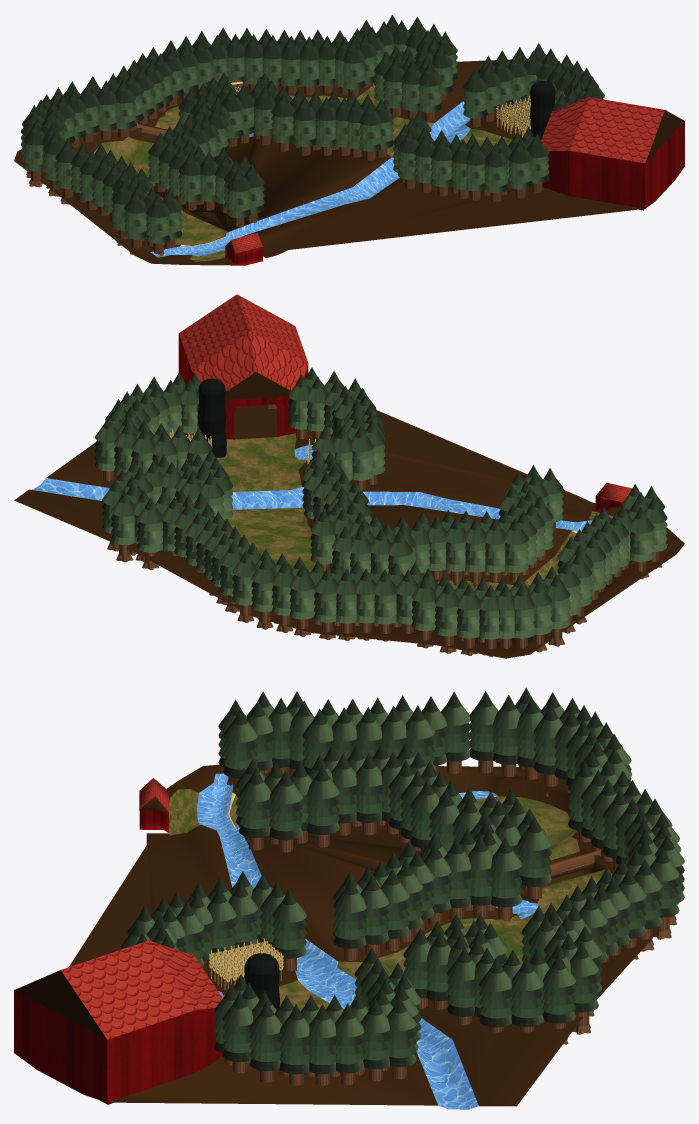
File: proyectardolvl1parte7(completo).fbx
3 renders of one model, top to bottom at view 1: azimuth 30°, elevation 25°; view 2: azimuth 150°, elevation 25°; view 3: azimuth 270°, elevation 25°, orthographic. The views are drawn at different scales.
Parts seen in each view (by area): view 1: Plane.001, Cylinder, pino.055, pino.144, pino.001, pino.180, pino.179, pino.046, pino.056, pino.111, pino.045, pino.072 (+61 smaller); view 2: Plane.001, Cylinder, pino.133, pino.121, pino.120, pino.139, pino.140, pino.134, pino.057, pino.141, pino.131, pino.130 (+49 smaller); view 3: Plane.001, pino.033, pino.167, pino.030, pino.034, pino.018, pino.022, pino.032, pino.119, pino.158, pino.159, pino.117 (+64 smaller).
Part boxes in pixels (box(x1,y1,x2,y2)): Plane.001: box(14, 58, 684, 265); Cylinder: box(530, 81, 555, 139); pino.055: box(146, 193, 170, 255); pino.144: box(463, 68, 487, 127); pino.001: box(226, 167, 251, 226); pino.180: box(484, 143, 508, 201); pino.179: box(508, 139, 532, 198); pino.046: box(292, 97, 315, 155); pino.056: box(124, 189, 146, 254); pino.111: box(419, 62, 441, 121); pino.045: box(271, 93, 294, 151); pino.072: box(23, 121, 44, 187); Plane.001: box(14, 294, 684, 658); Cylinder: box(198, 378, 226, 457); pino.133: box(289, 564, 315, 636); pino.121: box(137, 498, 162, 569); pino.120: box(111, 490, 134, 562); pino.139: box(411, 576, 436, 648); pino.140: box(434, 581, 458, 653); pino.134: box(314, 568, 337, 639); pino.057: box(629, 507, 654, 579); pino.141: box(457, 583, 480, 655); pino.131: box(251, 557, 275, 629); pino.130: box(232, 550, 256, 622); Plane.001: box(14, 764, 660, 1109); pino.033: box(269, 770, 302, 852); pino.167: box(272, 888, 306, 971); pino.030: box(333, 878, 366, 960); pino.034: box(307, 765, 339, 847); pino.018: box(517, 817, 551, 903); pino.022: box(491, 837, 522, 922); pino.032: box(238, 768, 271, 850); pino.119: box(542, 953, 575, 1044); pino.158: box(249, 1001, 281, 1082); pino.159: box(279, 1004, 309, 1085); pino.117: box(479, 957, 511, 1032).
Size of the model in its own units: 10992 by 1929 by 8990.
